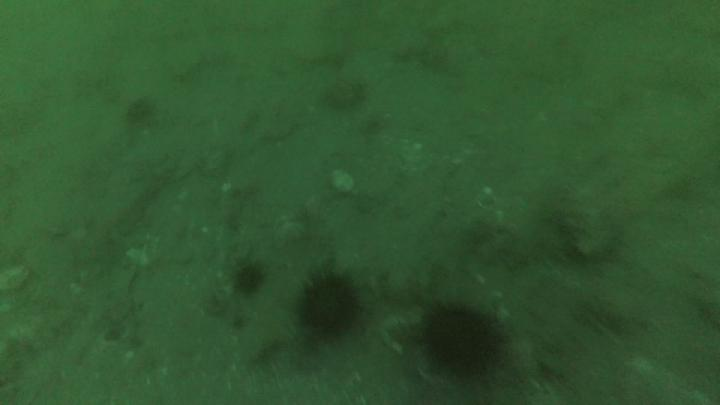echinus: (429, 309, 498, 375), (301, 276, 359, 340), (233, 267, 260, 292)
